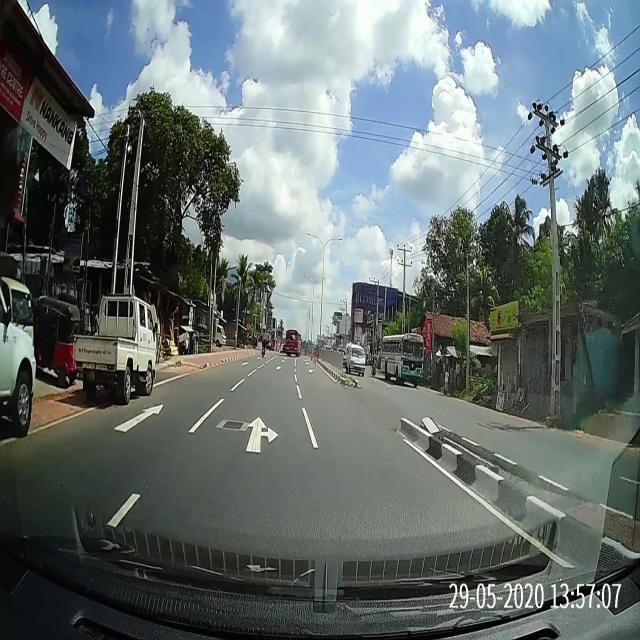forward_right: (177, 411, 321, 457), (179, 415, 318, 449), (183, 411, 318, 442), (189, 415, 316, 439)
